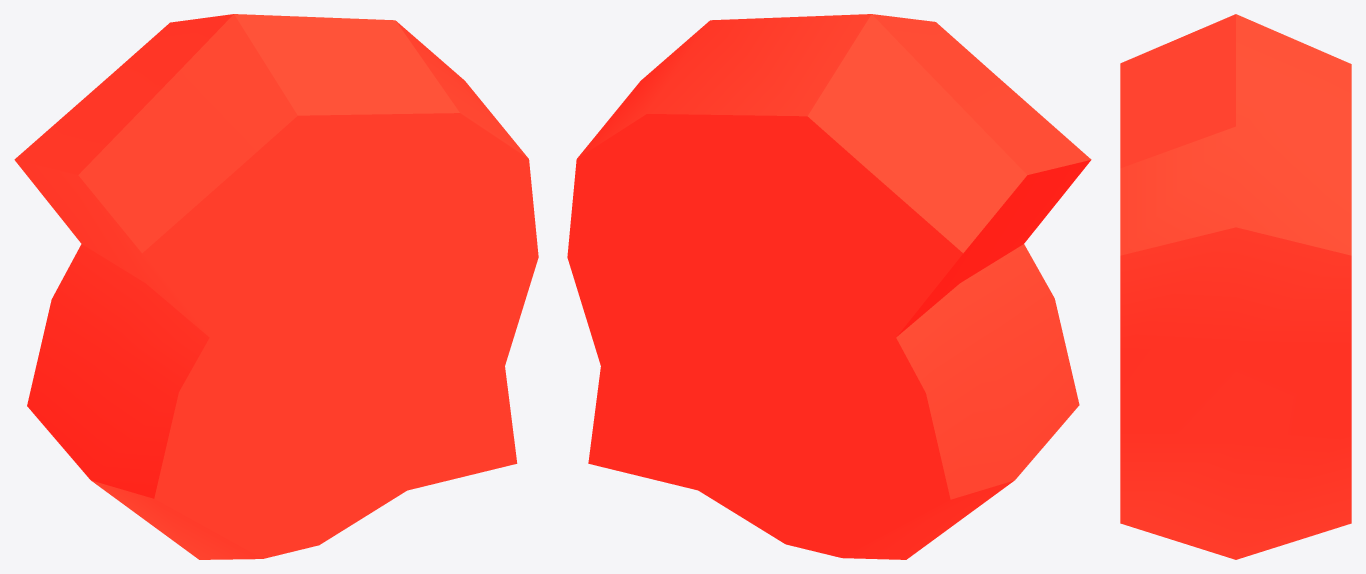
Rendered from RedFire.fbx.
The picture shows the model from 3 angles, left to right: view 1: azimuth 30°, elevation 25°; view 2: azimuth 150°, elevation 25°; view 3: azimuth 270°, elevation 25°; orthographic projection. The views are drawn at different scales.
Visible parts, largest first — view 1: Cube; view 2: Cube; view 3: Cube.
Part boxes in pixels (bbox=[...]): Cube: bbox=[14, 14, 538, 559]; Cube: bbox=[567, 14, 1091, 559]; Cube: bbox=[1120, 14, 1351, 559].
Size of the model in its own units: 112 by 145 by 62.47.
